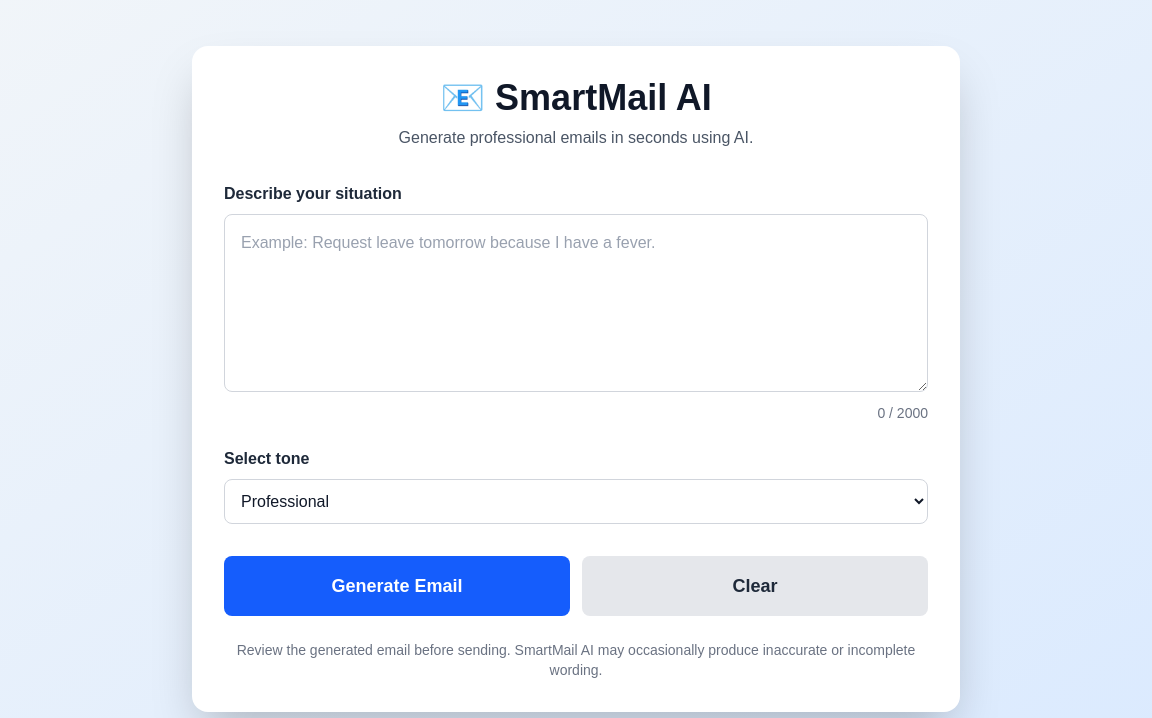
Test case: SmartMail AI › displays the generated subject and email
The width and height of the screenshot is (1152, 718).
Step 1. Type "Request leave tomorrow because I am feeling unwell." into the text box labelled "Describe your situation" → (576, 303), box 224,214 -> 928,392
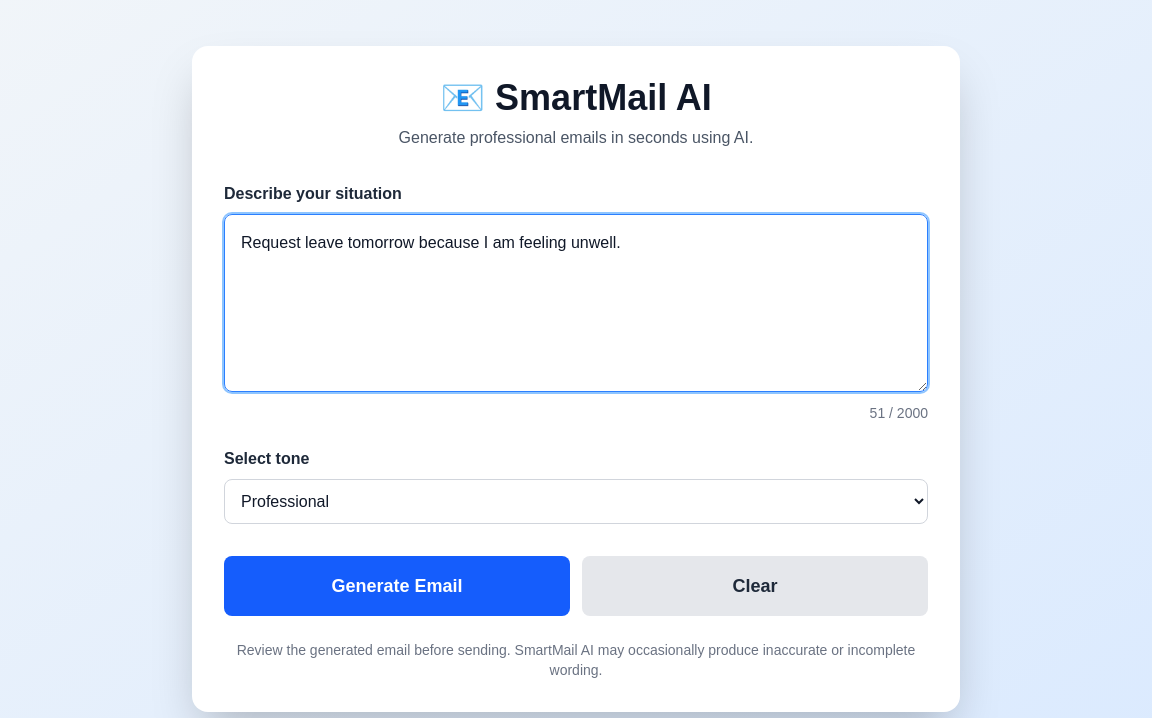
Step 2. Click the button "Generate Email" → (397, 586), box 224,556 -> 570,616
(page scrolled)
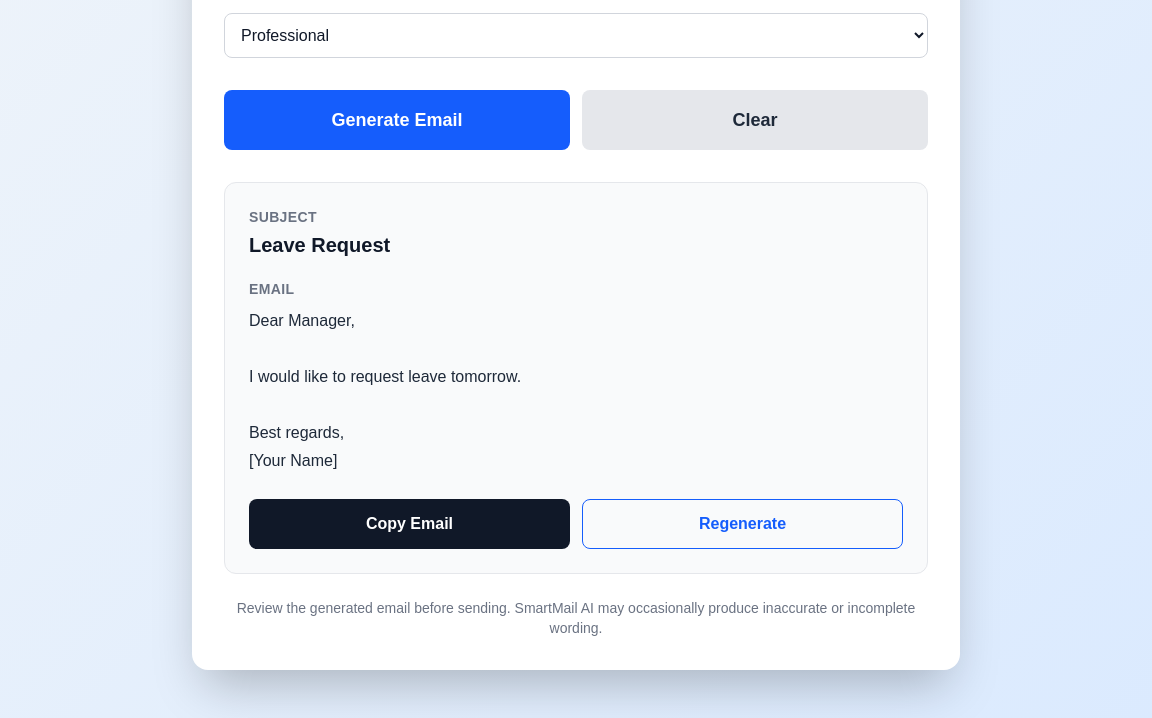
Now the heading "Leave Request" is shown, box 249,234 -> 390,256
Now the text "I would like to request leave tomorrow" is shown, box 249,312 -> 521,469
Now the button "Copy Email" is shown, box 249,499 -> 570,549
